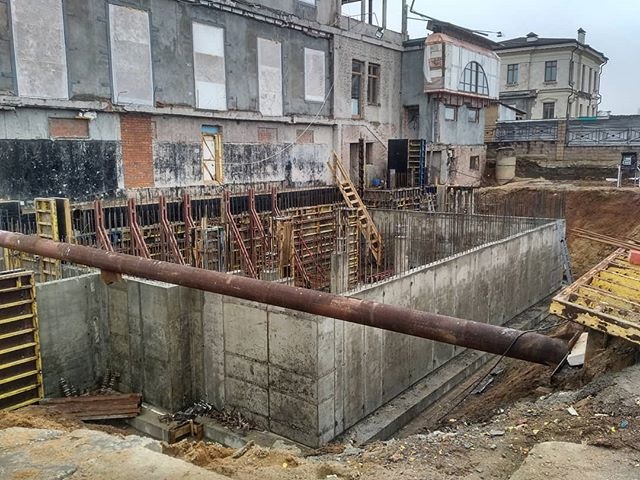building: (1, 1, 514, 203), (500, 31, 602, 119)
